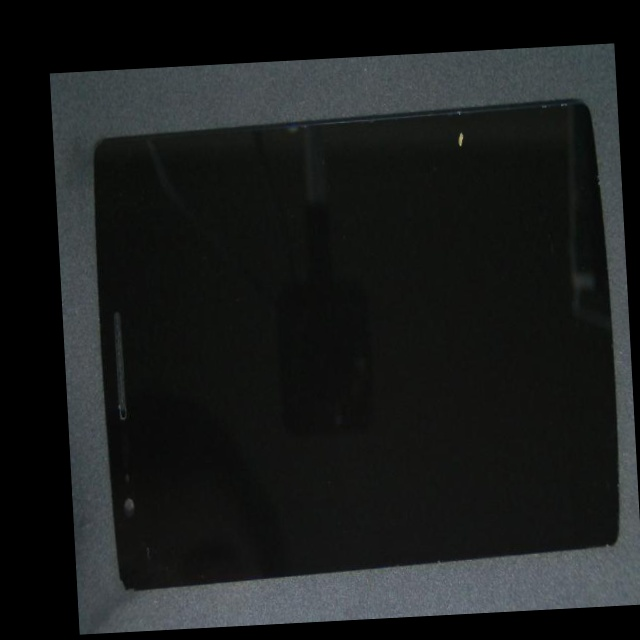stain: (258, 43, 621, 189)
